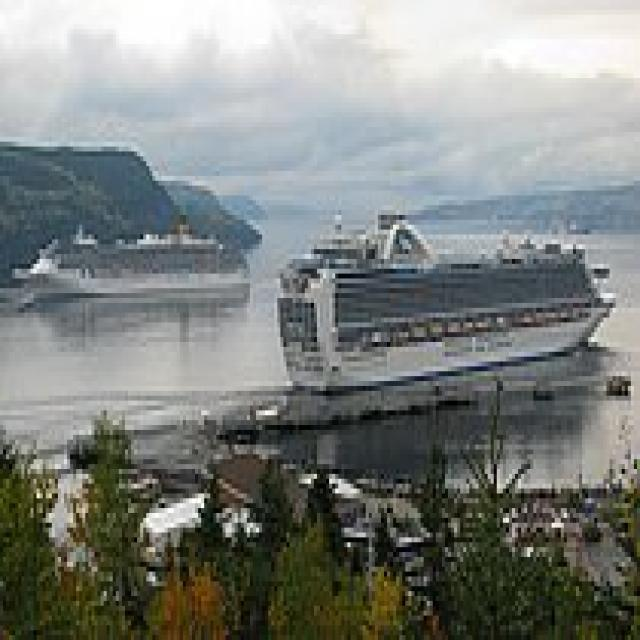Cruise: (268, 200, 619, 391), (3, 205, 250, 293)
